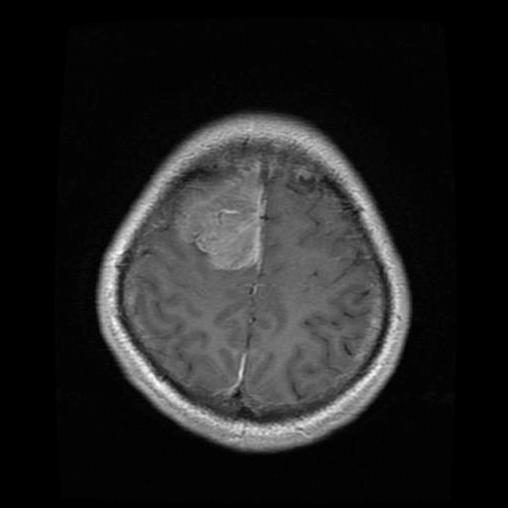Tumour-Meningioma: (162, 147, 290, 281)
